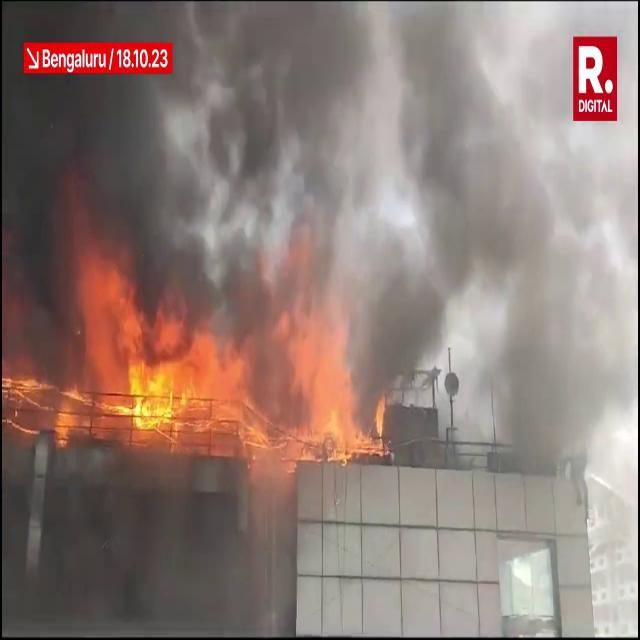Fire: (5, 333, 395, 464)
Smoke: (9, 12, 636, 360), (344, 0, 634, 484)
